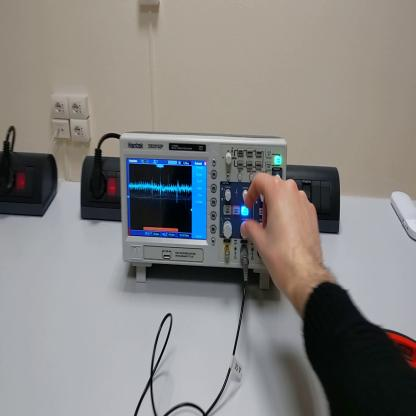hand: (240, 169, 325, 301)
oscilloscope: (118, 131, 288, 293)
pliers: (387, 324, 416, 374)
socket: (2, 144, 60, 223), (80, 154, 123, 224)
